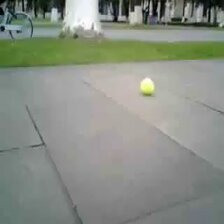tennis: (141, 77, 154, 95)
